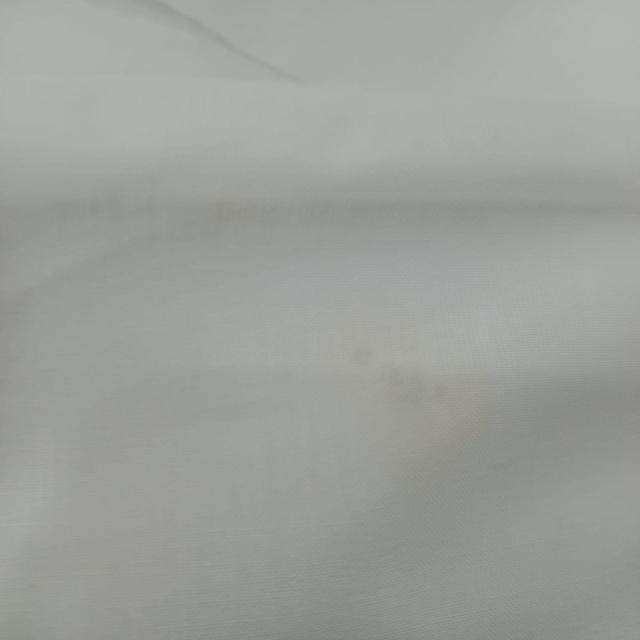stain: (326, 321, 476, 459)
